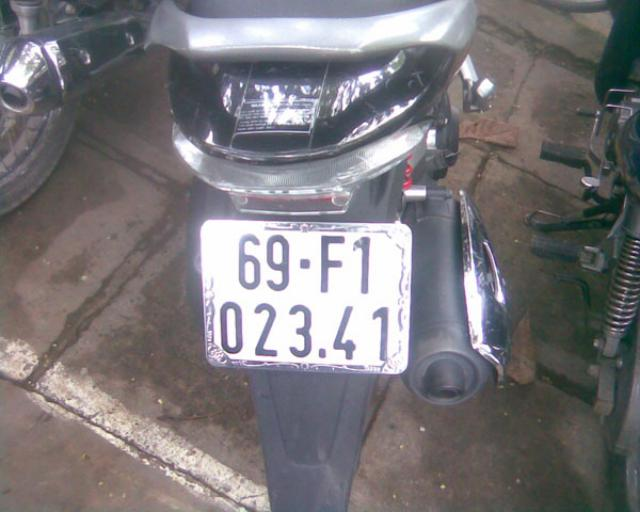plate: (198, 215, 418, 375)
